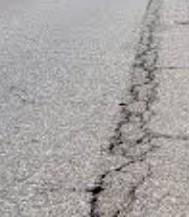alligator-crack: (88, 0, 167, 217)
